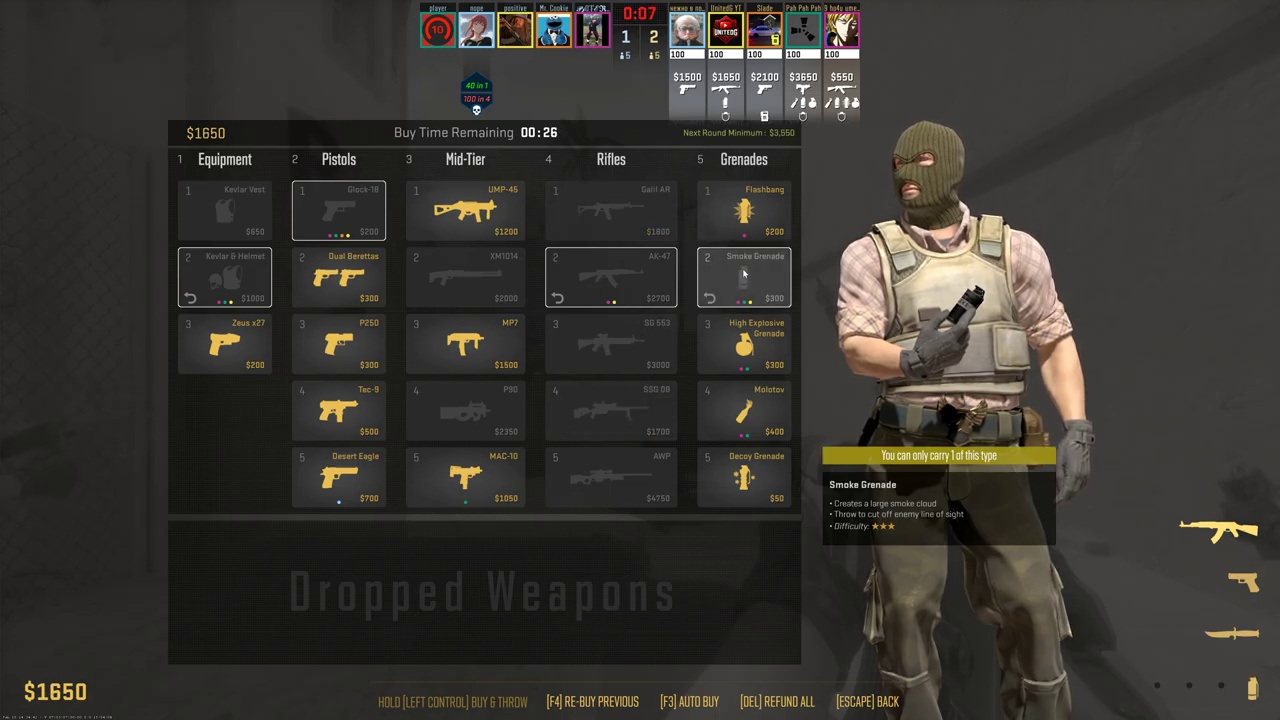Terrorist: (844, 120, 1075, 712)
